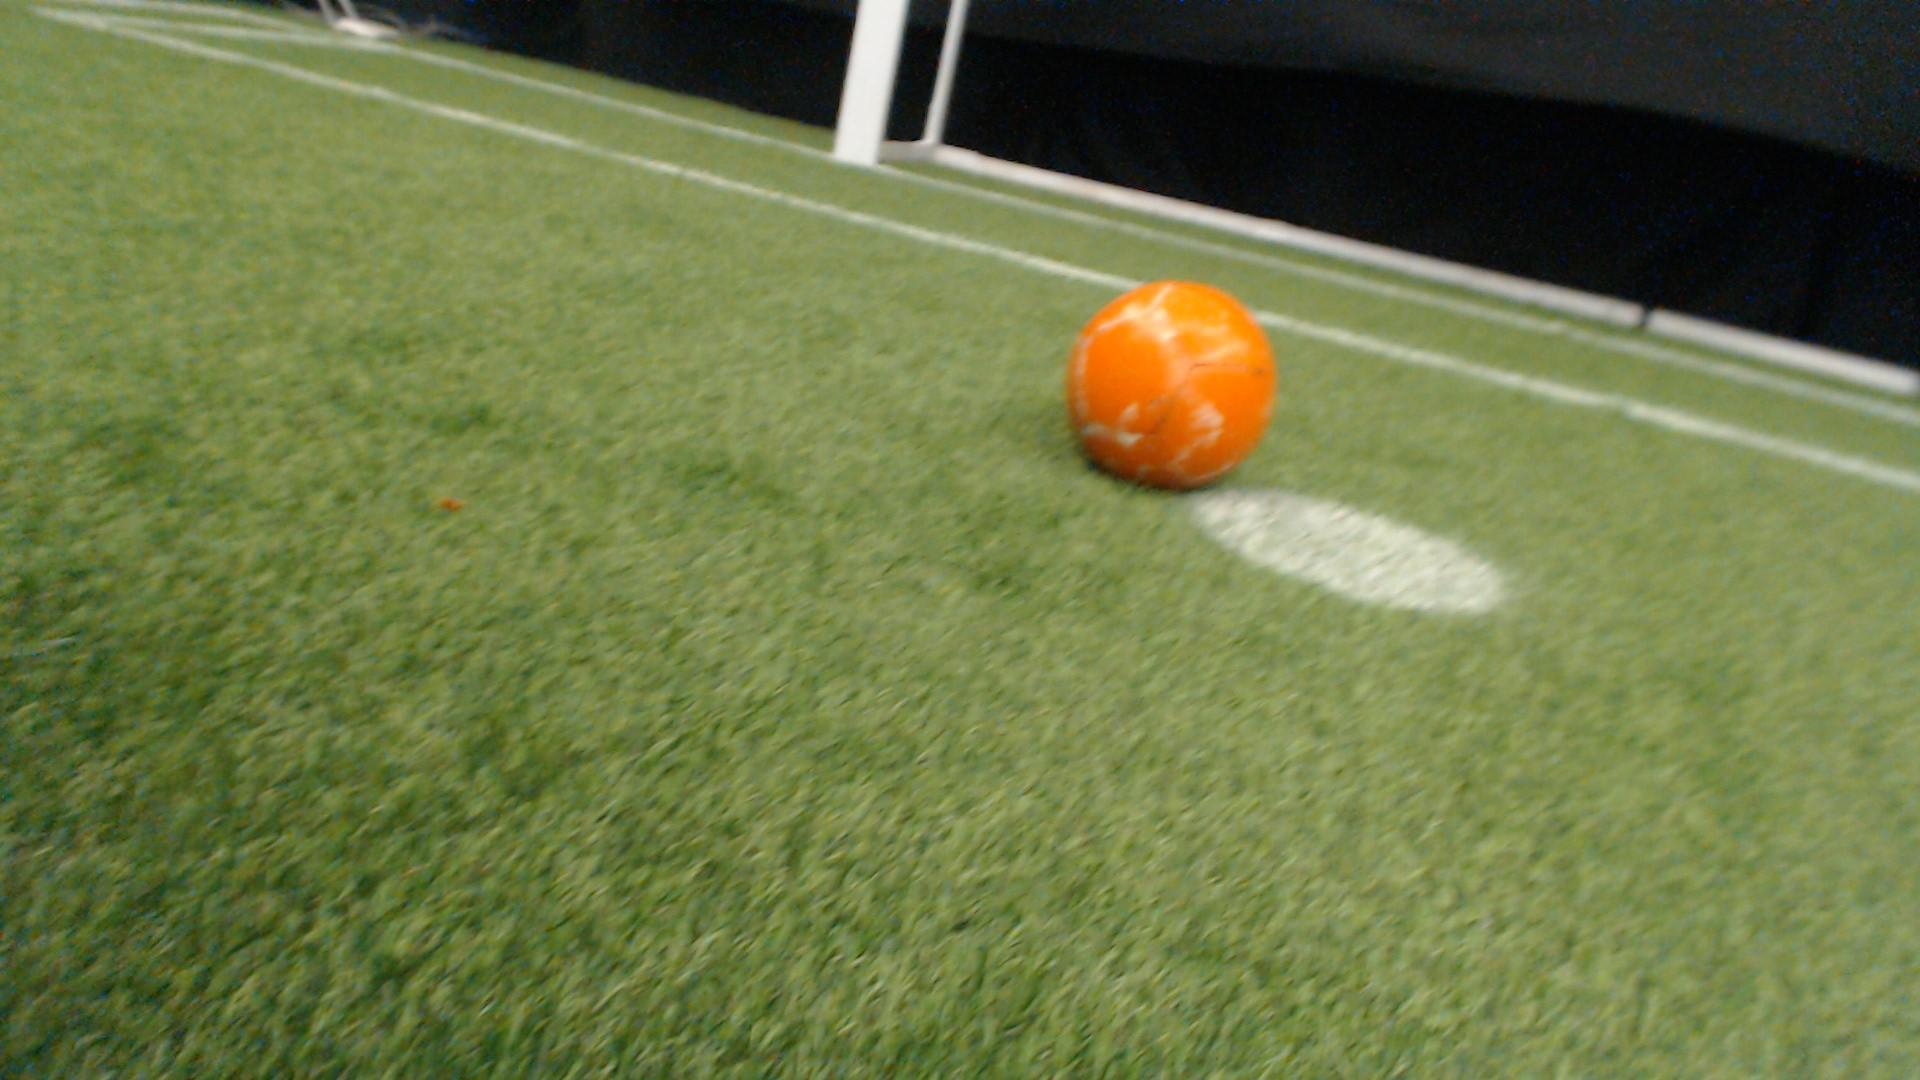bola: (1048, 258, 1294, 506)
